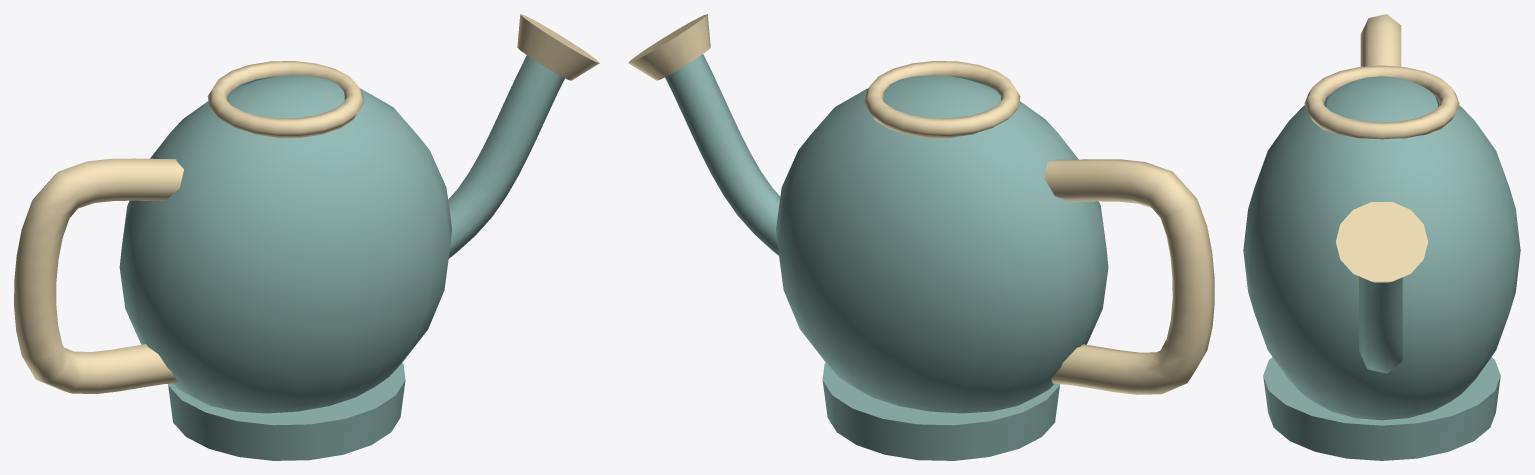
Rendered from home-watering-can-v1.glb.
3 views of the same model, side by side, from view 1: azimuth 30°, elevation 25°; view 2: azimuth 150°, elevation 25°; view 3: azimuth 270°, elevation 25° (orthographic).
Parts seen in each view (by area): view 1: Round belly, Loop handle, Flat base, Long spout, Filling rim, Sprinkler rose; view 2: Round belly, Loop handle, Flat base, Long spout, Filling rim, Sprinkler rose; view 3: Round belly, Flat base, Sprinkler rose, Filling rim, Long spout, Loop handle.
Boxes of the visible parts, x1,y1,x2,y2 form: Round belly: (119, 75, 451, 413); Loop handle: (14, 158, 183, 393); Flat base: (168, 363, 405, 460); Long spout: (448, 55, 564, 258); Filling rim: (207, 61, 363, 138); Sprinkler rose: (517, 14, 599, 80); Round belly: (776, 75, 1108, 413); Loop handle: (1044, 159, 1214, 394); Flat base: (822, 363, 1059, 460); Long spout: (665, 54, 780, 255); Filling rim: (864, 61, 1020, 138); Sprinkler rose: (628, 14, 710, 80); Round belly: (1243, 76, 1520, 420); Flat base: (1263, 357, 1500, 460); Sprinkler rose: (1336, 202, 1427, 282); Filling rim: (1304, 65, 1459, 139); Long spout: (1359, 276, 1402, 373); Loop handle: (1360, 14, 1401, 66).
Size of the model in its own units: 0.3973 by 0.2192 by 0.168.
